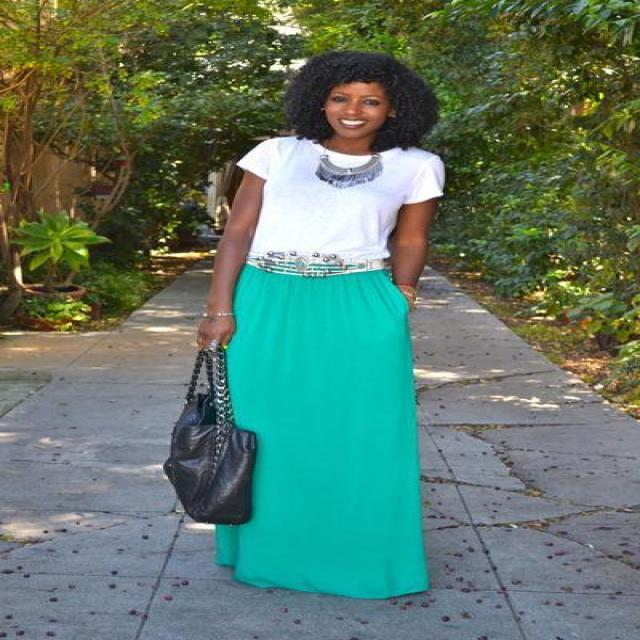bag: (163, 346, 258, 524)
shirt: (237, 136, 443, 264)
skirt: (216, 264, 427, 598)
